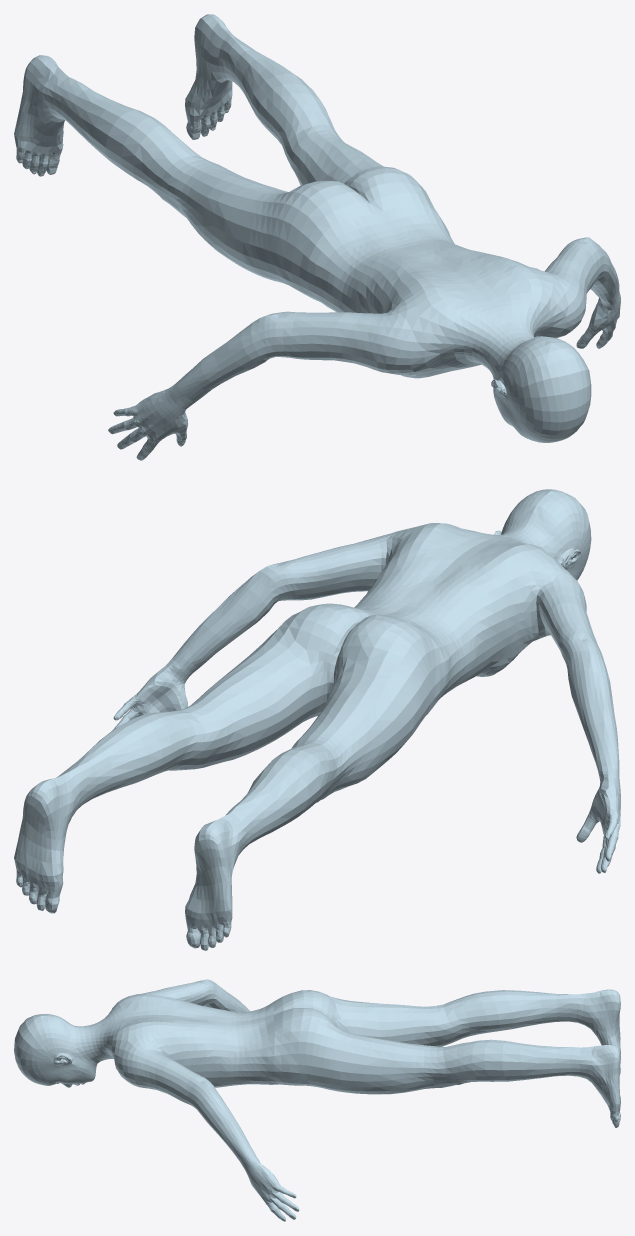
The model's file is anny_astronaut.glb.
3 views of the same model, one above another, from view 1: azimuth 30°, elevation 25°; view 2: azimuth 150°, elevation 25°; view 3: azimuth 270°, elevation 25° (orthographic). The views are drawn at different scales.
Visible parts, largest first — view 1: AnnyAstronaut; view 2: AnnyAstronaut; view 3: AnnyAstronaut.
Boxes of the visible parts, x1,y1,x2,y2 form: AnnyAstronaut: (14,14,620,460); AnnyAstronaut: (14,489,620,950); AnnyAstronaut: (14,979,620,1221).
Bounding box in the file's own units: 1.04 × 0.4248 × 1.63.
